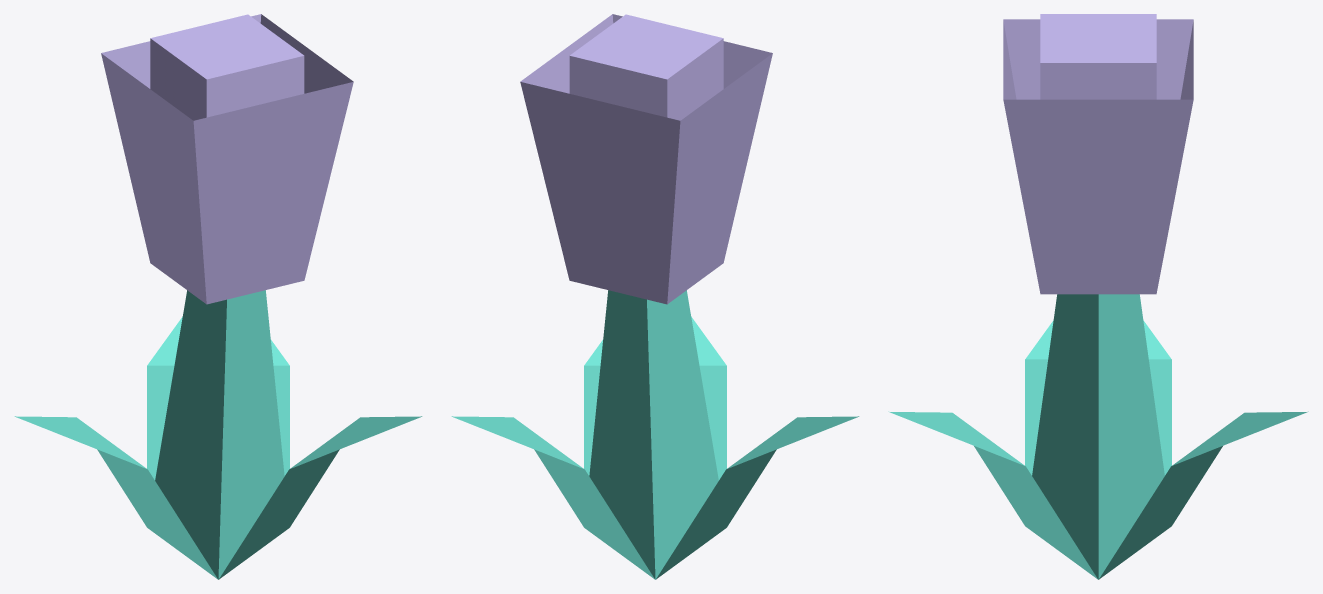
The model's file is flower_purpleA.glb.
3 views of the same model, side by side, from view 1: azimuth 30°, elevation 25°; view 2: azimuth 150°, elevation 25°; view 3: azimuth 270°, elevation 25° (orthographic). The views are drawn at different scales.
Visible parts, largest first — view 1: flower_purpleA; view 2: flower_purpleA; view 3: flower_purpleA.
Boxes of the visible parts, bbox=[...] form: flower_purpleA: bbox=[14, 14, 422, 579]; flower_purpleA: bbox=[451, 14, 859, 579]; flower_purpleA: bbox=[888, 14, 1308, 579].
Bounding box in the file's own units: 0.1591 × 0.2425 × 0.1811.
Materials: 1 (1 with a texture image).
